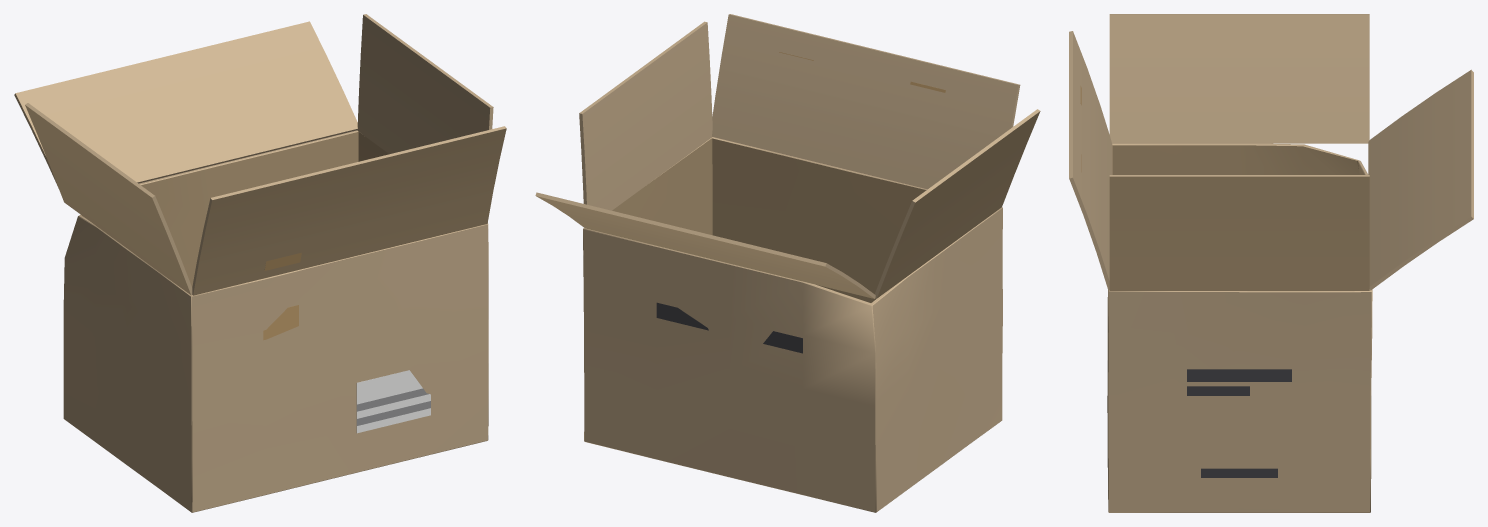
File: paper_cardboard_box_medium.fbx
The picture shows the model from 3 angles, left to right: view 1: azimuth 30°, elevation 25°; view 2: azimuth 150°, elevation 25°; view 3: azimuth 270°, elevation 25°; orthographic projection. The views are drawn at different scales.
Visible parts, largest first — view 1: paper_cardboard_box_medium; view 2: paper_cardboard_box_medium; view 3: paper_cardboard_box_medium.
Boxes of the visible parts, x1=… form: paper_cardboard_box_medium: x1=14, y1=14, x2=506, y2=512; paper_cardboard_box_medium: x1=535, y1=14, x2=1040, y2=512; paper_cardboard_box_medium: x1=1069, y1=14, x2=1473, y2=512.
Bounding box in the file's own units: 0.4603 × 0.428 × 0.4626.
